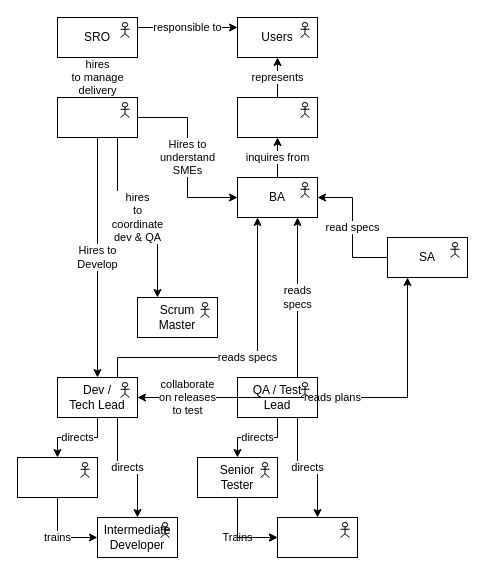
Image size: 485x575. Some labels were removed from this diagram. Here are the shapes that lost their labels. From the top down, the centre of each, then its label:
At point (97, 117): "PM".
At point (277, 117): "SME".
At point (57, 477): "Senior Developer".
At point (317, 537): "Intermediate Tester".
